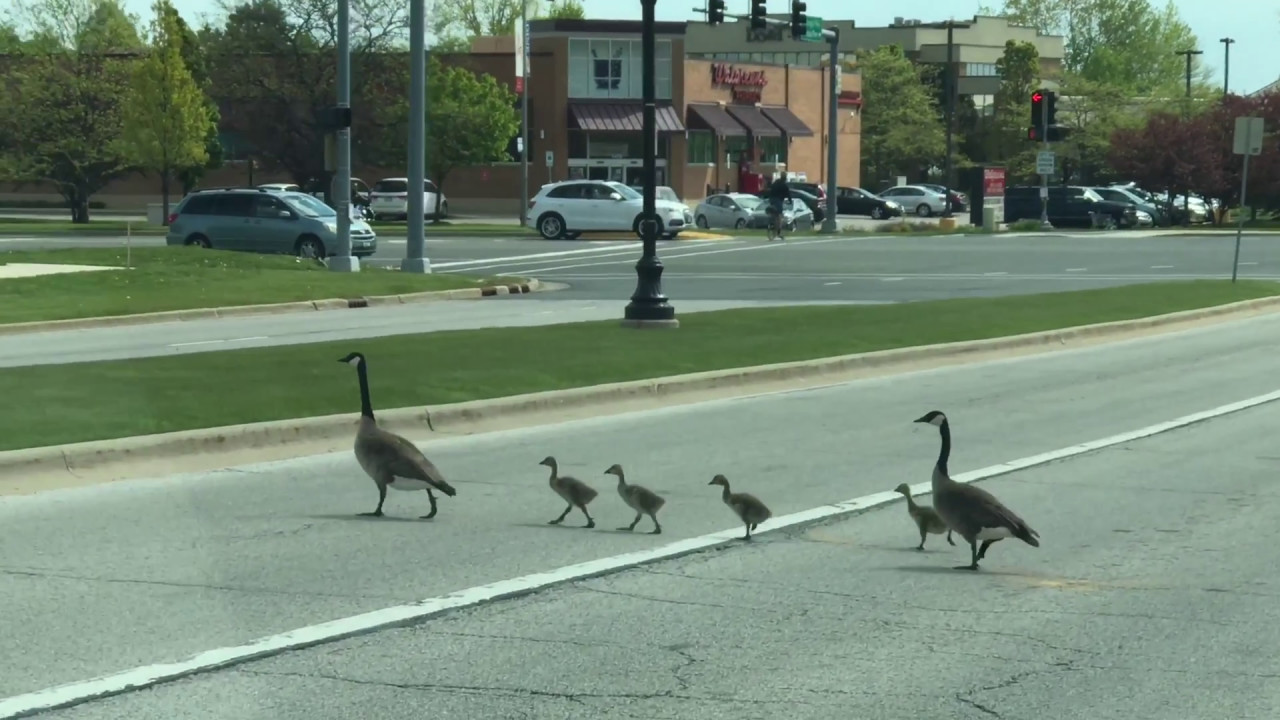goose: (330, 345, 458, 523), (911, 407, 1045, 575)
